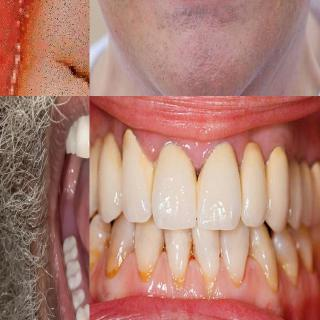Gum Swelling: (90, 253, 142, 302), (222, 127, 281, 166), (180, 258, 235, 299), (236, 258, 276, 307), (143, 254, 180, 297), (174, 138, 218, 169), (134, 132, 171, 160)
calculus: (189, 157, 207, 209)
cavities: (30, 0, 90, 96)
plaque: (140, 151, 160, 196), (90, 226, 108, 272)
stains: (100, 132, 120, 166), (119, 134, 131, 166), (315, 217, 320, 252)
